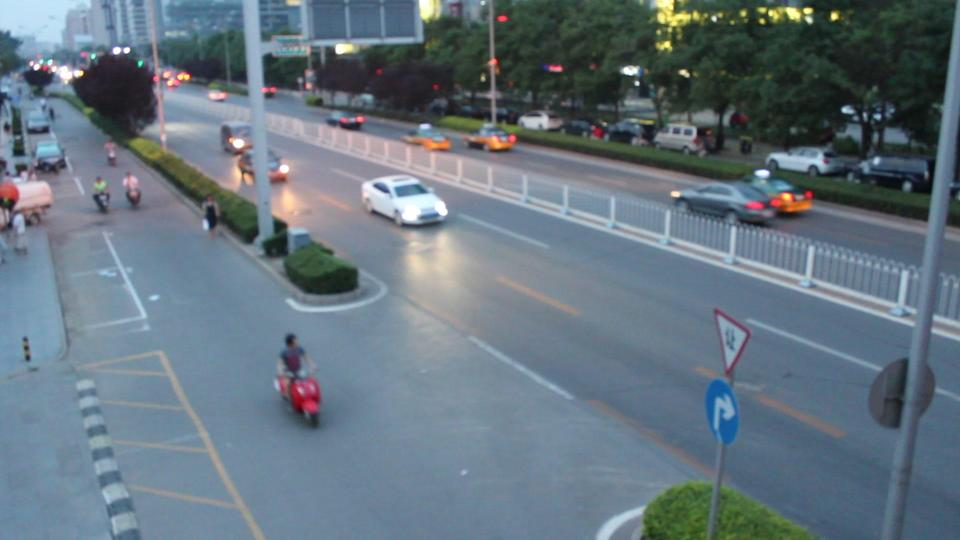Car: (669, 179, 770, 224), (360, 175, 445, 224), (717, 173, 809, 214), (237, 147, 285, 180), (463, 125, 514, 152), (399, 125, 446, 150), (324, 106, 362, 128)
Minivan: (221, 123, 256, 149)
